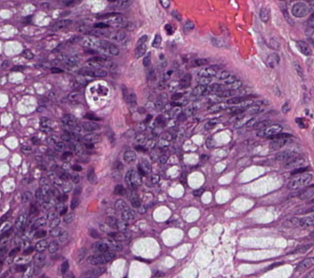nucleus: (257, 124, 281, 137), (124, 170, 141, 188), (61, 114, 78, 131), (108, 14, 127, 28), (198, 65, 220, 77), (78, 67, 106, 76), (226, 95, 255, 103), (103, 238, 122, 250), (154, 93, 167, 110), (51, 19, 71, 30), (269, 138, 287, 150), (81, 121, 99, 132), (108, 231, 129, 240), (108, 30, 125, 41), (83, 132, 100, 143), (15, 214, 26, 231), (266, 53, 279, 67), (31, 217, 45, 230), (207, 103, 227, 112), (138, 158, 150, 173), (88, 29, 110, 37), (205, 83, 222, 93), (253, 120, 270, 130), (40, 117, 52, 131), (121, 208, 135, 220), (191, 85, 206, 96), (129, 192, 140, 207), (64, 55, 79, 65), (123, 150, 135, 162), (135, 44, 146, 57), (179, 74, 190, 87), (205, 118, 218, 129), (114, 199, 127, 210), (106, 215, 117, 228), (35, 240, 48, 251), (216, 70, 230, 80), (260, 7, 269, 22), (87, 168, 96, 183), (125, 93, 136, 105), (224, 75, 237, 85), (228, 80, 241, 90), (46, 135, 59, 145), (50, 226, 63, 236), (35, 188, 43, 204), (97, 13, 118, 19), (192, 58, 207, 66), (61, 181, 71, 193), (117, 219, 127, 231), (114, 0, 130, 7), (197, 77, 211, 85), (269, 38, 279, 49), (114, 184, 125, 194), (49, 217, 59, 228), (58, 231, 68, 242), (76, 75, 88, 84), (54, 141, 66, 150), (152, 34, 160, 47), (183, 21, 193, 31), (137, 35, 147, 45), (152, 126, 162, 136), (64, 213, 74, 223), (22, 49, 33, 58), (184, 107, 195, 116), (22, 191, 31, 202), (218, 89, 232, 96), (70, 196, 78, 208), (34, 229, 46, 237), (143, 53, 150, 66), (212, 38, 223, 46), (94, 22, 108, 28), (135, 134, 144, 143), (145, 139, 154, 148), (150, 174, 159, 183), (47, 211, 56, 220), (172, 10, 180, 20), (147, 69, 155, 79), (61, 151, 71, 159), (160, 0, 169, 8), (206, 138, 214, 147), (159, 154, 167, 163), (71, 174, 79, 183), (165, 24, 172, 34), (171, 93, 181, 100), (85, 114, 99, 119), (21, 146, 31, 153), (29, 204, 36, 214), (68, 36, 79, 42), (107, 131, 113, 142), (135, 145, 146, 151), (90, 229, 98, 237), (193, 189, 203, 195), (158, 80, 165, 88), (40, 178, 48, 185), (51, 67, 62, 72), (61, 1, 74, 5), (11, 66, 24, 70), (60, 194, 67, 201), (74, 187, 80, 195), (72, 165, 81, 170), (145, 115, 151, 122), (60, 207, 66, 214), (85, 143, 93, 148), (1, 61, 6, 67), (32, 138, 38, 143), (38, 107, 45, 111)
